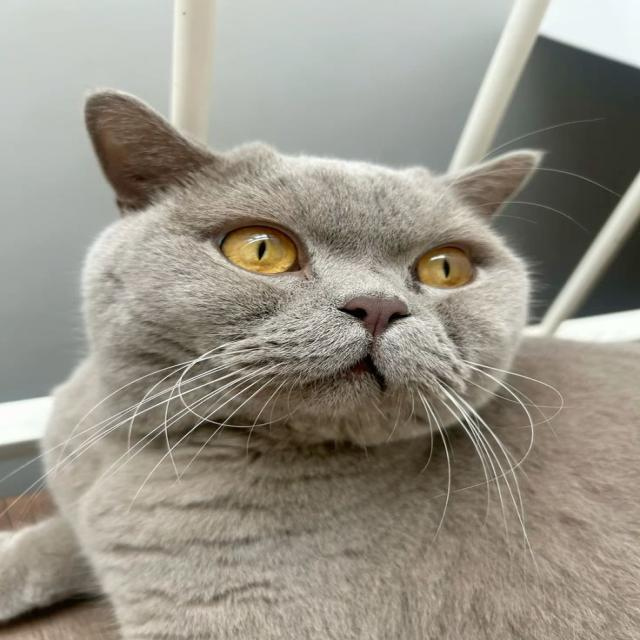british shorthair: (20, 31, 609, 640)
